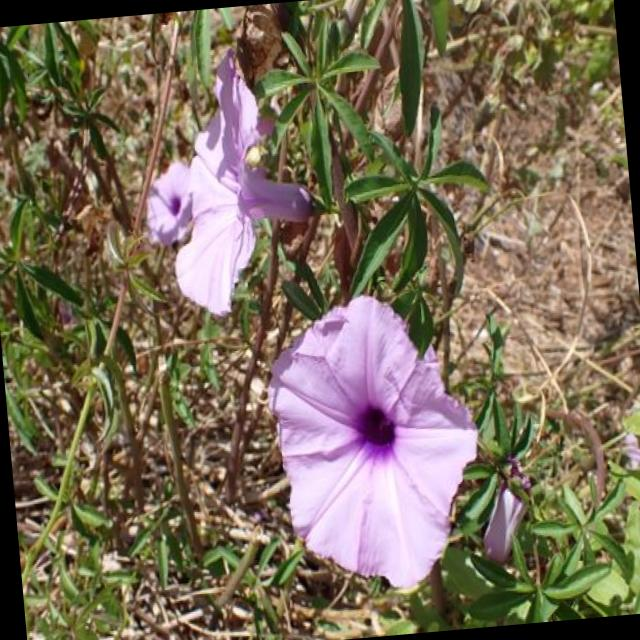ipomoea: (256, 282, 494, 603), (144, 42, 325, 326)
